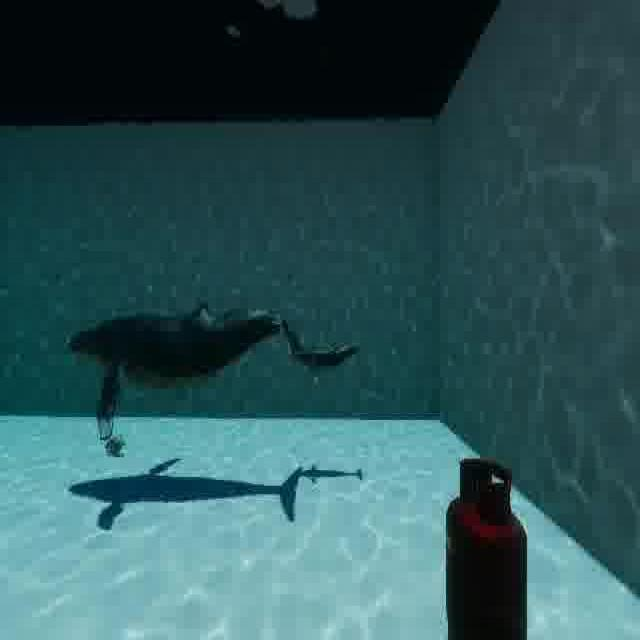Cylinder: (407, 421, 612, 640)
Whale: (58, 304, 278, 444), (286, 303, 369, 393)
